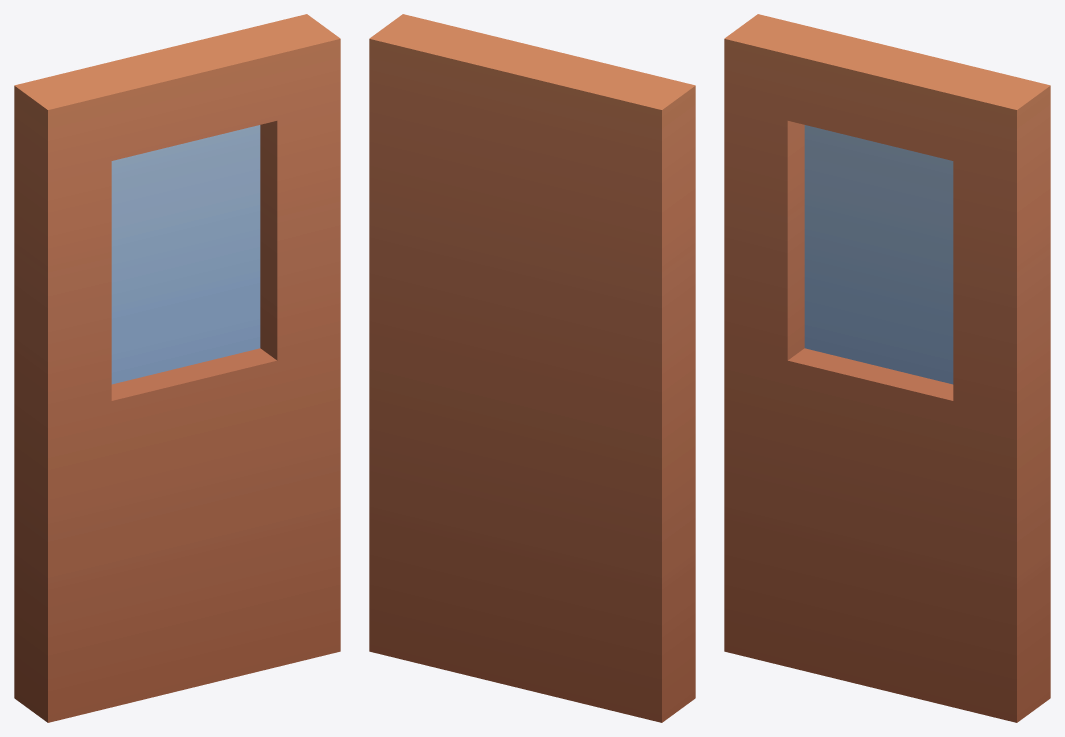
File: kenney-modular-buildings-door-brown-window.glb
3 renders of one model, left to right at view 1: azimuth 30°, elevation 25°; view 2: azimuth 150°, elevation 25°; view 3: azimuth 330°, elevation 25°, orthographic.
Visible parts, largest first — view 1: door-brown-window; view 2: door-brown-window; view 3: door-brown-window.
Boxes of the visible parts, box(x1,y1,x2,y2) form: door-brown-window: box(14, 14, 340, 722); door-brown-window: box(369, 14, 695, 722); door-brown-window: box(724, 14, 1050, 722).
Bounding box in the file's own units: 0.25 × 0.5 × 0.05.
1 material, 1 textured.
